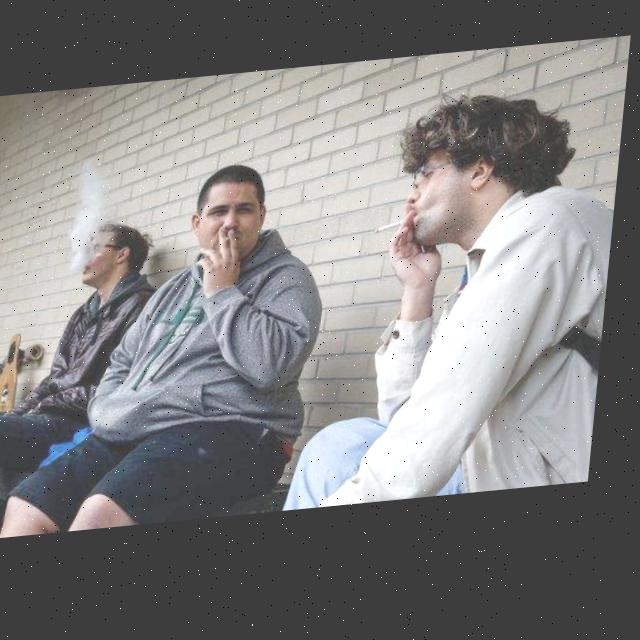cigarette: (379, 230, 406, 242), (231, 242, 235, 248)
